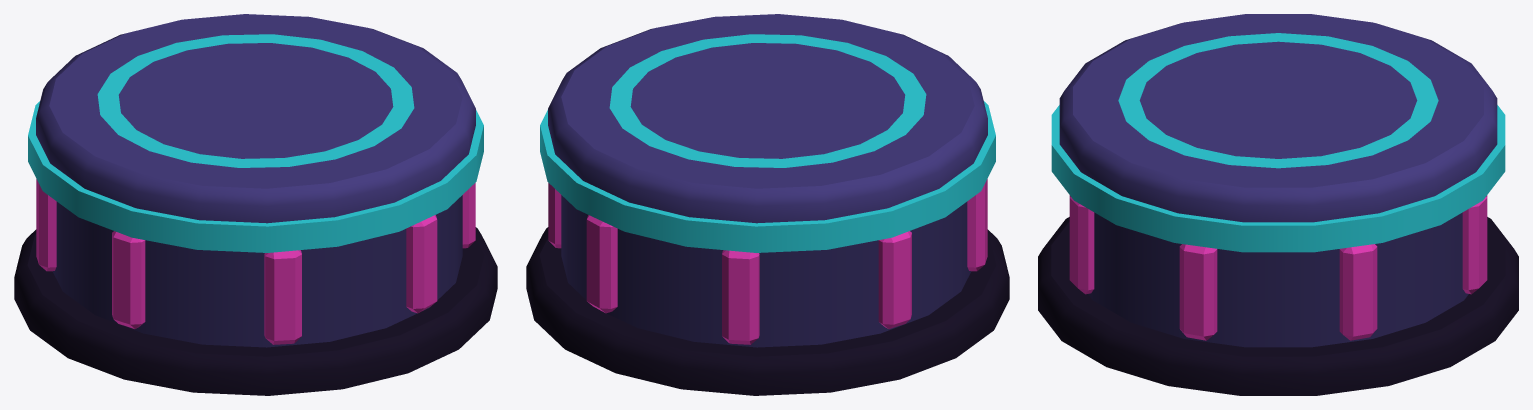
File: neon-podium.glb
3 views of the same model, side by side, from view 1: azimuth 30°, elevation 25°; view 2: azimuth 150°, elevation 25°; view 3: azimuth 270°, elevation 25° (orthographic).
Parts seen in each view (by area): view 1: neon-podium; view 2: neon-podium; view 3: neon-podium.
Part boxes in pixels (bbox=[...]): neon-podium: bbox=[14, 14, 497, 395]; neon-podium: bbox=[526, 14, 1009, 395]; neon-podium: bbox=[1038, 14, 1518, 395].
Size of the model in its own units: 0.9008 by 0.401 by 0.9008.
